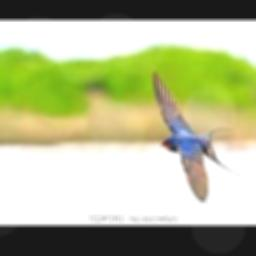Swallow: (153, 69, 242, 202)
